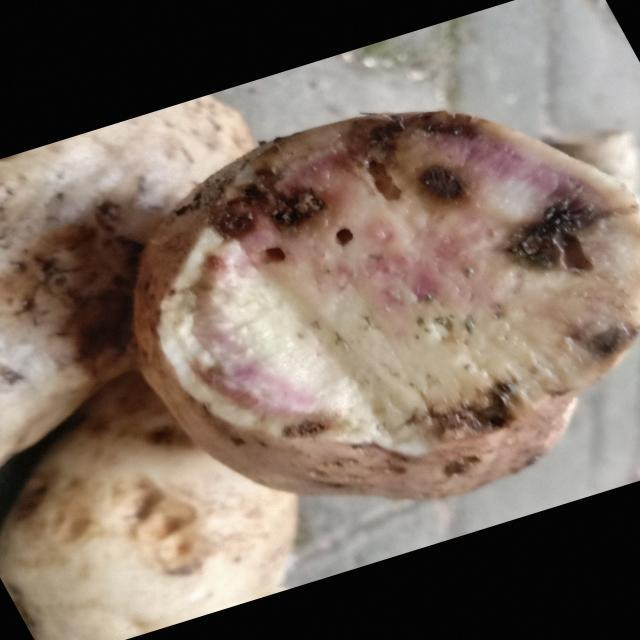Sick Sweet Potato_Tuber Rot: (142, 112, 638, 456)
